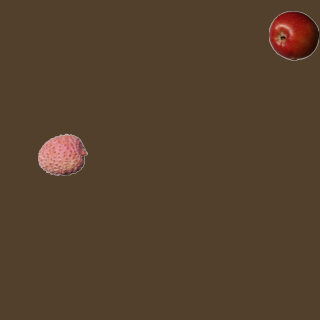Apple Braeburn: (268, 10, 318, 60)
Lychee: (37, 129, 87, 179)
